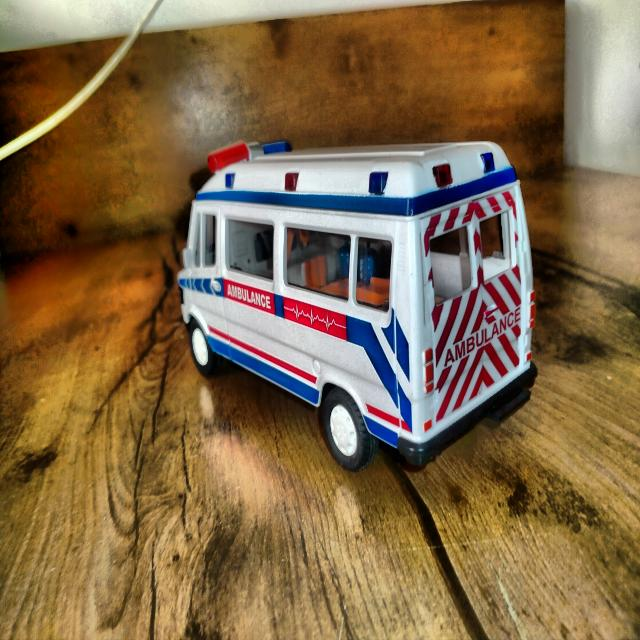Ambulance: (178, 142, 534, 470)
